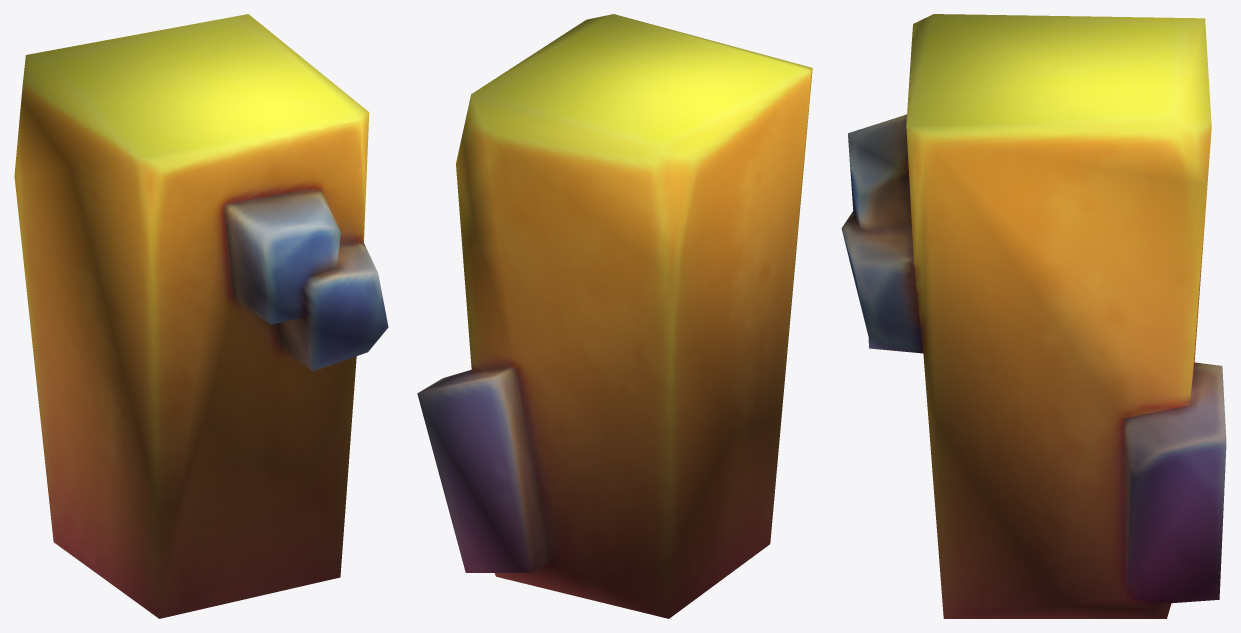
The model's file is SM_Gem_Topaz_006.fbx.
The picture shows the model from 3 angles, left to right: view 1: azimuth 30°, elevation 25°; view 2: azimuth 150°, elevation 25°; view 3: azimuth 270°, elevation 25°; orthographic projection. The views are drawn at different scales.
Parts seen in each view (by area): view 1: SM_Gem_Topaz_006; view 2: SM_Gem_Topaz_006; view 3: SM_Gem_Topaz_006.
Boxes of the visible parts, box(x1,y1,x2,y2) form: SM_Gem_Topaz_006: box(14, 14, 388, 618); SM_Gem_Topaz_006: box(417, 14, 812, 618); SM_Gem_Topaz_006: box(841, 14, 1226, 618).
Size of the model in its own units: 13.87 by 24.64 by 17.
